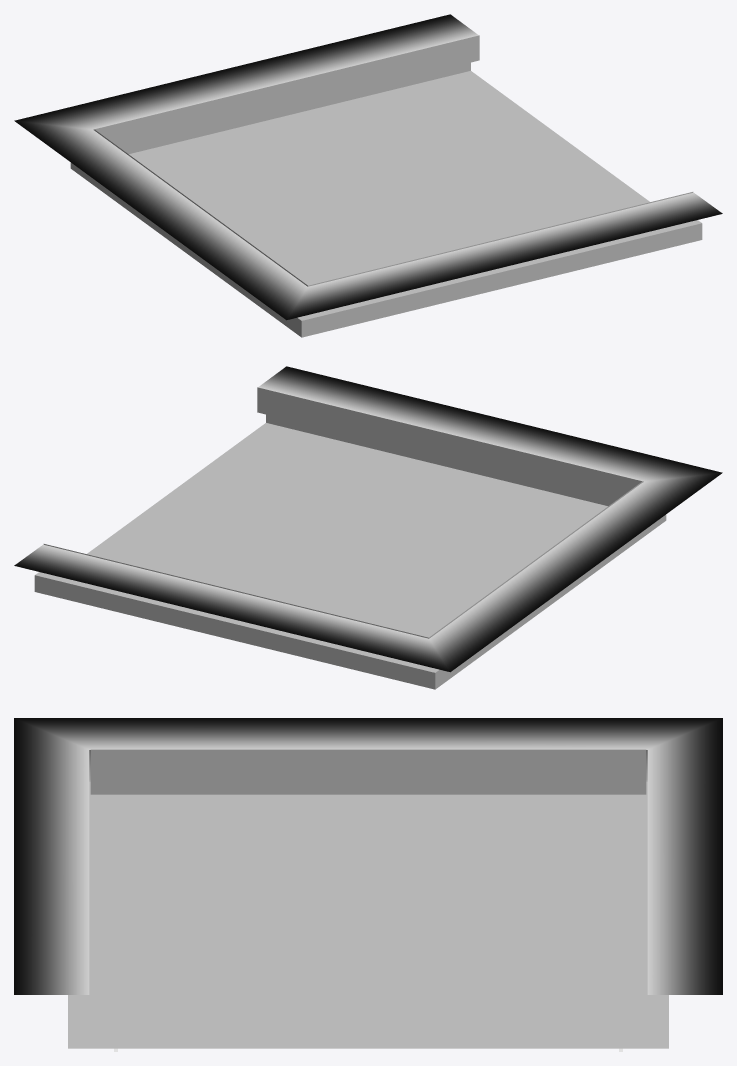
The model's file is CeilingCenter01_5.FBX.
3 renders of one model, top to bottom at view 1: azimuth 30°, elevation 25°; view 2: azimuth 150°, elevation 25°; view 3: azimuth 270°, elevation 25°, orthographic. The views are drawn at different scales.
Parts seen in each view (by area): view 1: Ceiling, Backlight; view 2: Ceiling, Backlight; view 3: Ceiling, Backlight.
Part boxes in pixels (x1,y1,x2,y2): Ceiling: [70, 35, 702, 337]; Backlight: [14, 14, 722, 320]; Ceiling: [34, 387, 666, 689]; Backlight: [14, 366, 722, 672]; Ceiling: [68, 749, 668, 1048]; Backlight: [14, 718, 722, 994].
Size of the model in its own units: 272 by 26.5 by 295.
